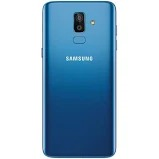samsung: (40, 1, 116, 159)
